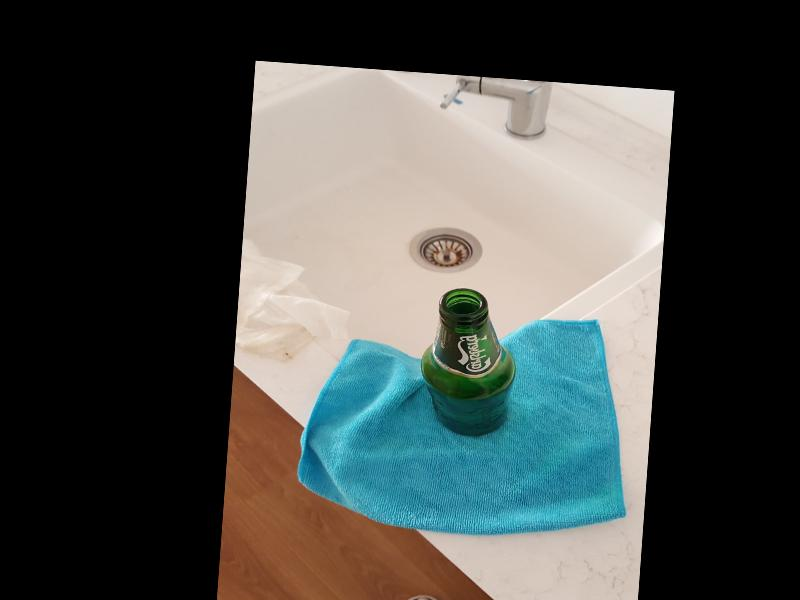Beer: (415, 287, 516, 440)
